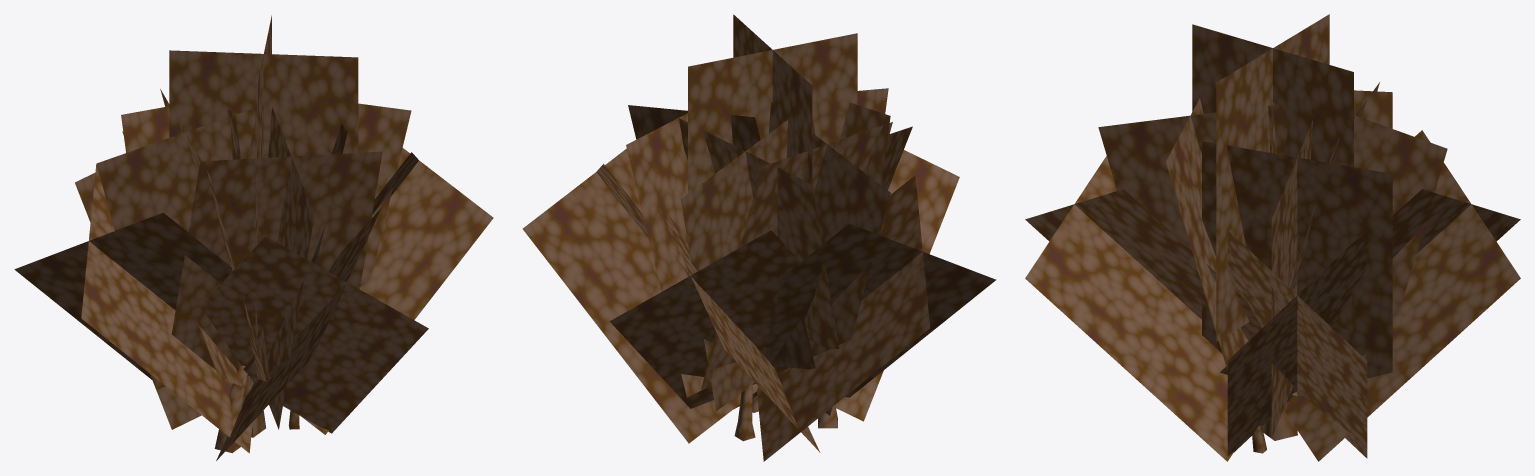
File: buisson_1_1.FBX
3 renders of one model, left to right at view 1: azimuth 30°, elevation 25°; view 2: azimuth 150°, elevation 25°; view 3: azimuth 270°, elevation 25°, orthographic. The views are drawn at different scales.
Parts seen in each view (by area): view 1: Cylinder005; view 2: Cylinder005; view 3: Cylinder005.
Boxes of the visible parts, x1,y1,x2,y2 form: Cylinder005: [14, 15, 493, 460]; Cylinder005: [522, 14, 996, 461]; Cylinder005: [1025, 14, 1520, 461].
Bounding box in the file's own units: 265 × 231 × 265.
1 material, 1 textured.
